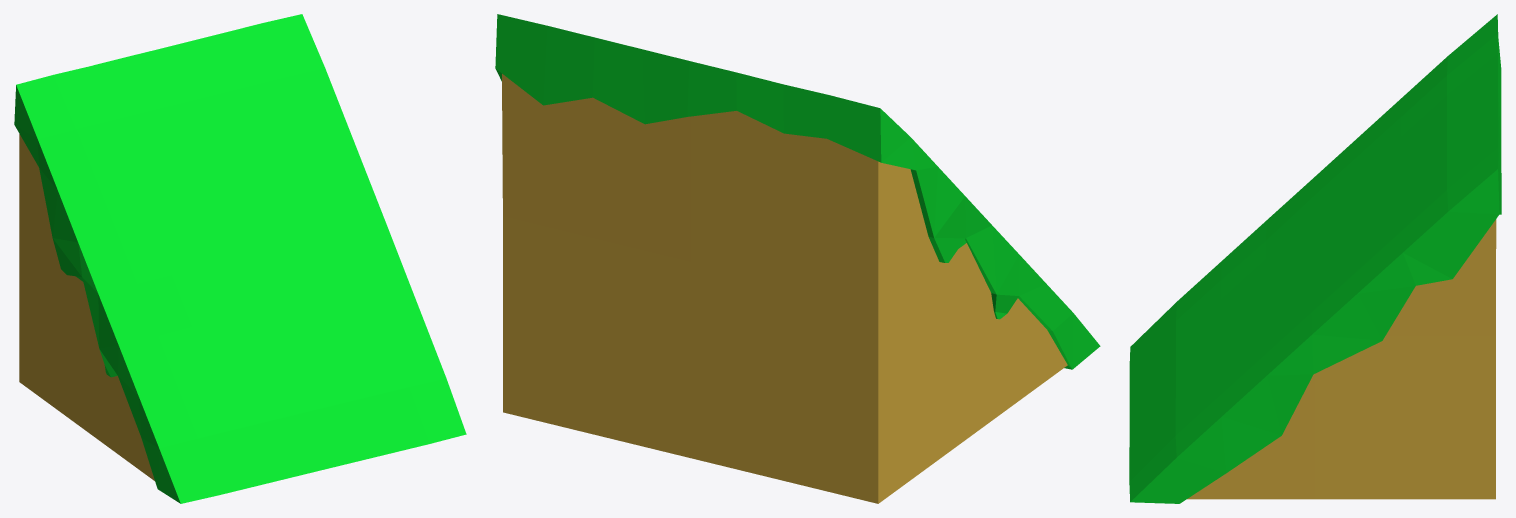
File: slope.fbx
3 views of the same model, side by side, from view 1: azimuth 30°, elevation 25°; view 2: azimuth 150°, elevation 25°; view 3: azimuth 270°, elevation 25° (orthographic). The views are drawn at different scales.
Parts seen in each view (by area): view 1: Cube; view 2: Cube; view 3: Cube.
Boxes of the visible parts, x1,y1,x2,y2 form: Cube: (14, 14, 466, 503); Cube: (495, 14, 1100, 503); Cube: (1129, 14, 1501, 503).
Bounding box in the file's own units: 206 × 206 × 206.
